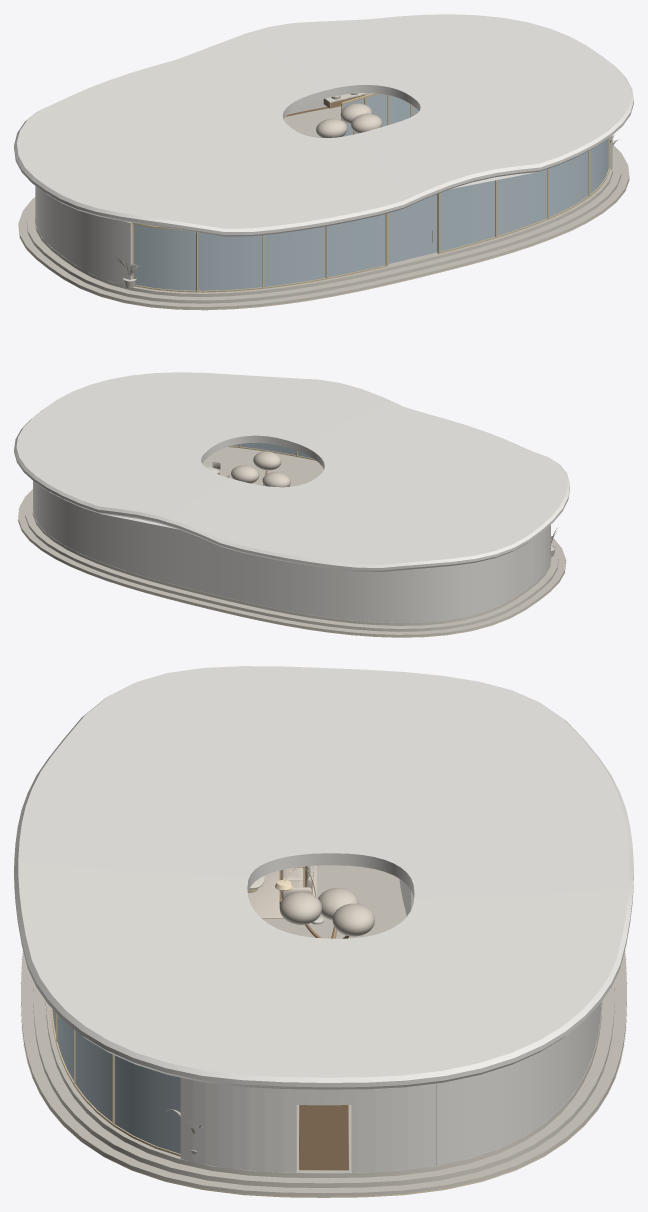
File: Dune.dae
The picture shows the model from 3 angles, top to bottom: view 1: azimuth 30°, elevation 25°; view 2: azimuth 150°, elevation 25°; view 3: azimuth 270°, elevation 25°; orthographic projection. The views are drawn at different scales.
Parts seen in each view (by area): view 1: Dune_Roof, Dune_Glass_S, Dune_Floor, Dune_Wall_W, Dune_Door_S, Dune_Courtyard, Dune_Bath_Screen; view 2: Dune_Roof, Dune_Wall_N, Dune_Floor, Dune_Wall_W, Dune_Courtyard, Dune_Glass_S; view 3: Dune_Roof, Dune_Floor, Dune_Wall_E, Dune_Wall_N, Dune_Glass_S, Dune_Door_E, Dune_Courtyard, Dune_Rug.
Boxes of the visible parts, bbox=[...] form: Dune_Roof: bbox=[14, 14, 633, 236]; Dune_Glass_S: bbox=[132, 138, 609, 292]; Dune_Floor: bbox=[18, 106, 629, 310]; Dune_Wall_W: bbox=[36, 187, 131, 285]; Dune_Door_S: bbox=[387, 194, 437, 264]; Dune_Courtyard: bbox=[316, 103, 382, 137]; Dune_Bath_Screen: bbox=[341, 93, 418, 136]; Dune_Roof: bbox=[14, 372, 569, 571]; Dune_Wall_N: bbox=[33, 481, 482, 622]; Dune_Floor: bbox=[17, 447, 566, 637]; Dune_Wall_W: bbox=[483, 525, 550, 611]; Dune_Courtyard: bbox=[231, 451, 290, 487]; Dune_Glass_S: bbox=[228, 443, 315, 460]; Dune_Roof: bbox=[14, 666, 633, 1089]; Dune_Floor: bbox=[20, 865, 627, 1197]; Dune_Wall_E: bbox=[180, 1077, 436, 1172]; Dune_Wall_N: bbox=[436, 1002, 601, 1165]; Dune_Glass_S: bbox=[51, 1007, 180, 1156]; Dune_Door_E: bbox=[299, 1105, 348, 1170]; Dune_Courtyard: bbox=[279, 888, 374, 938]; Dune_Rug: bbox=[248, 865, 316, 918].
Bounding box in the file's own units: 27.8 × 17.8 × 4.34.
